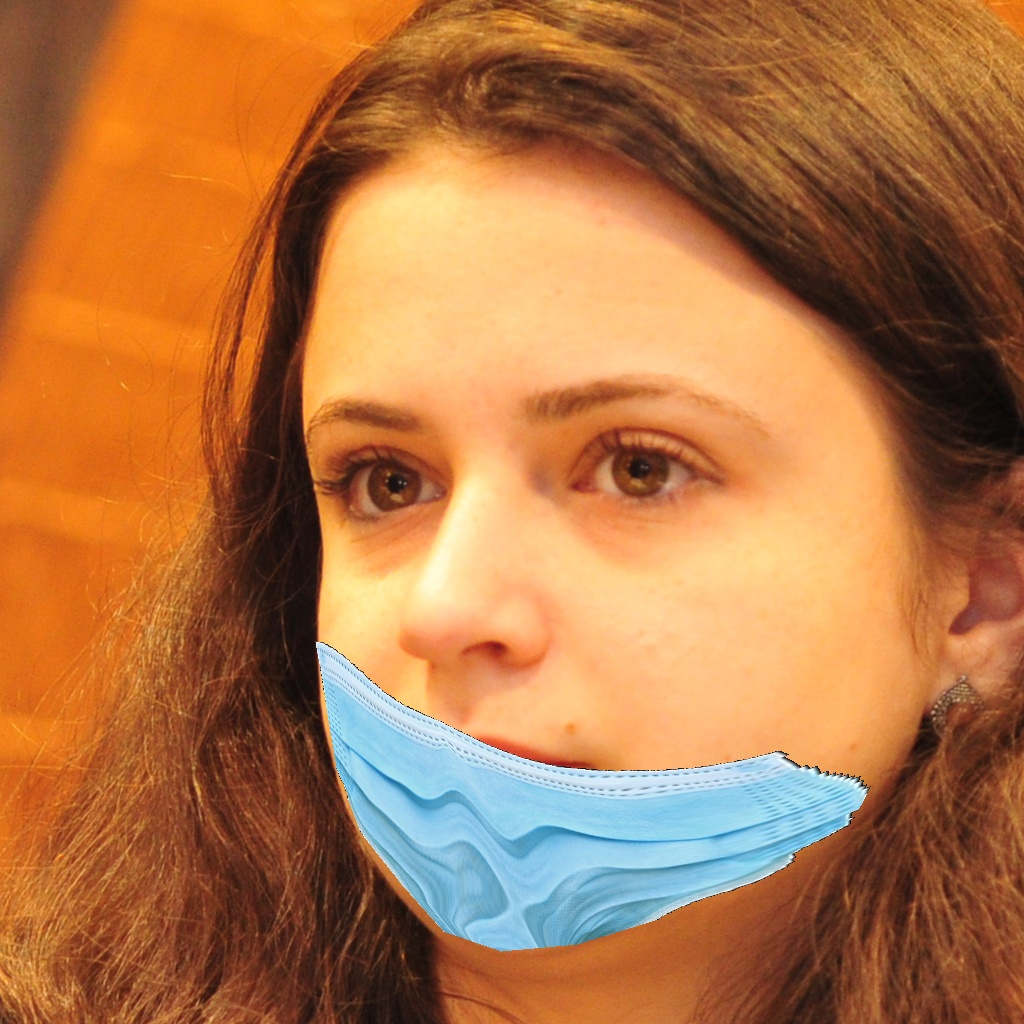Mask_Mouth_Chin: (305, 377, 888, 956)
